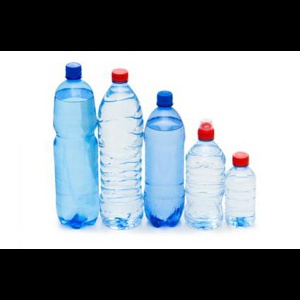emptybottle: (54, 62, 98, 229), (99, 68, 143, 230), (143, 90, 184, 226), (184, 119, 226, 231), (225, 152, 255, 227)
